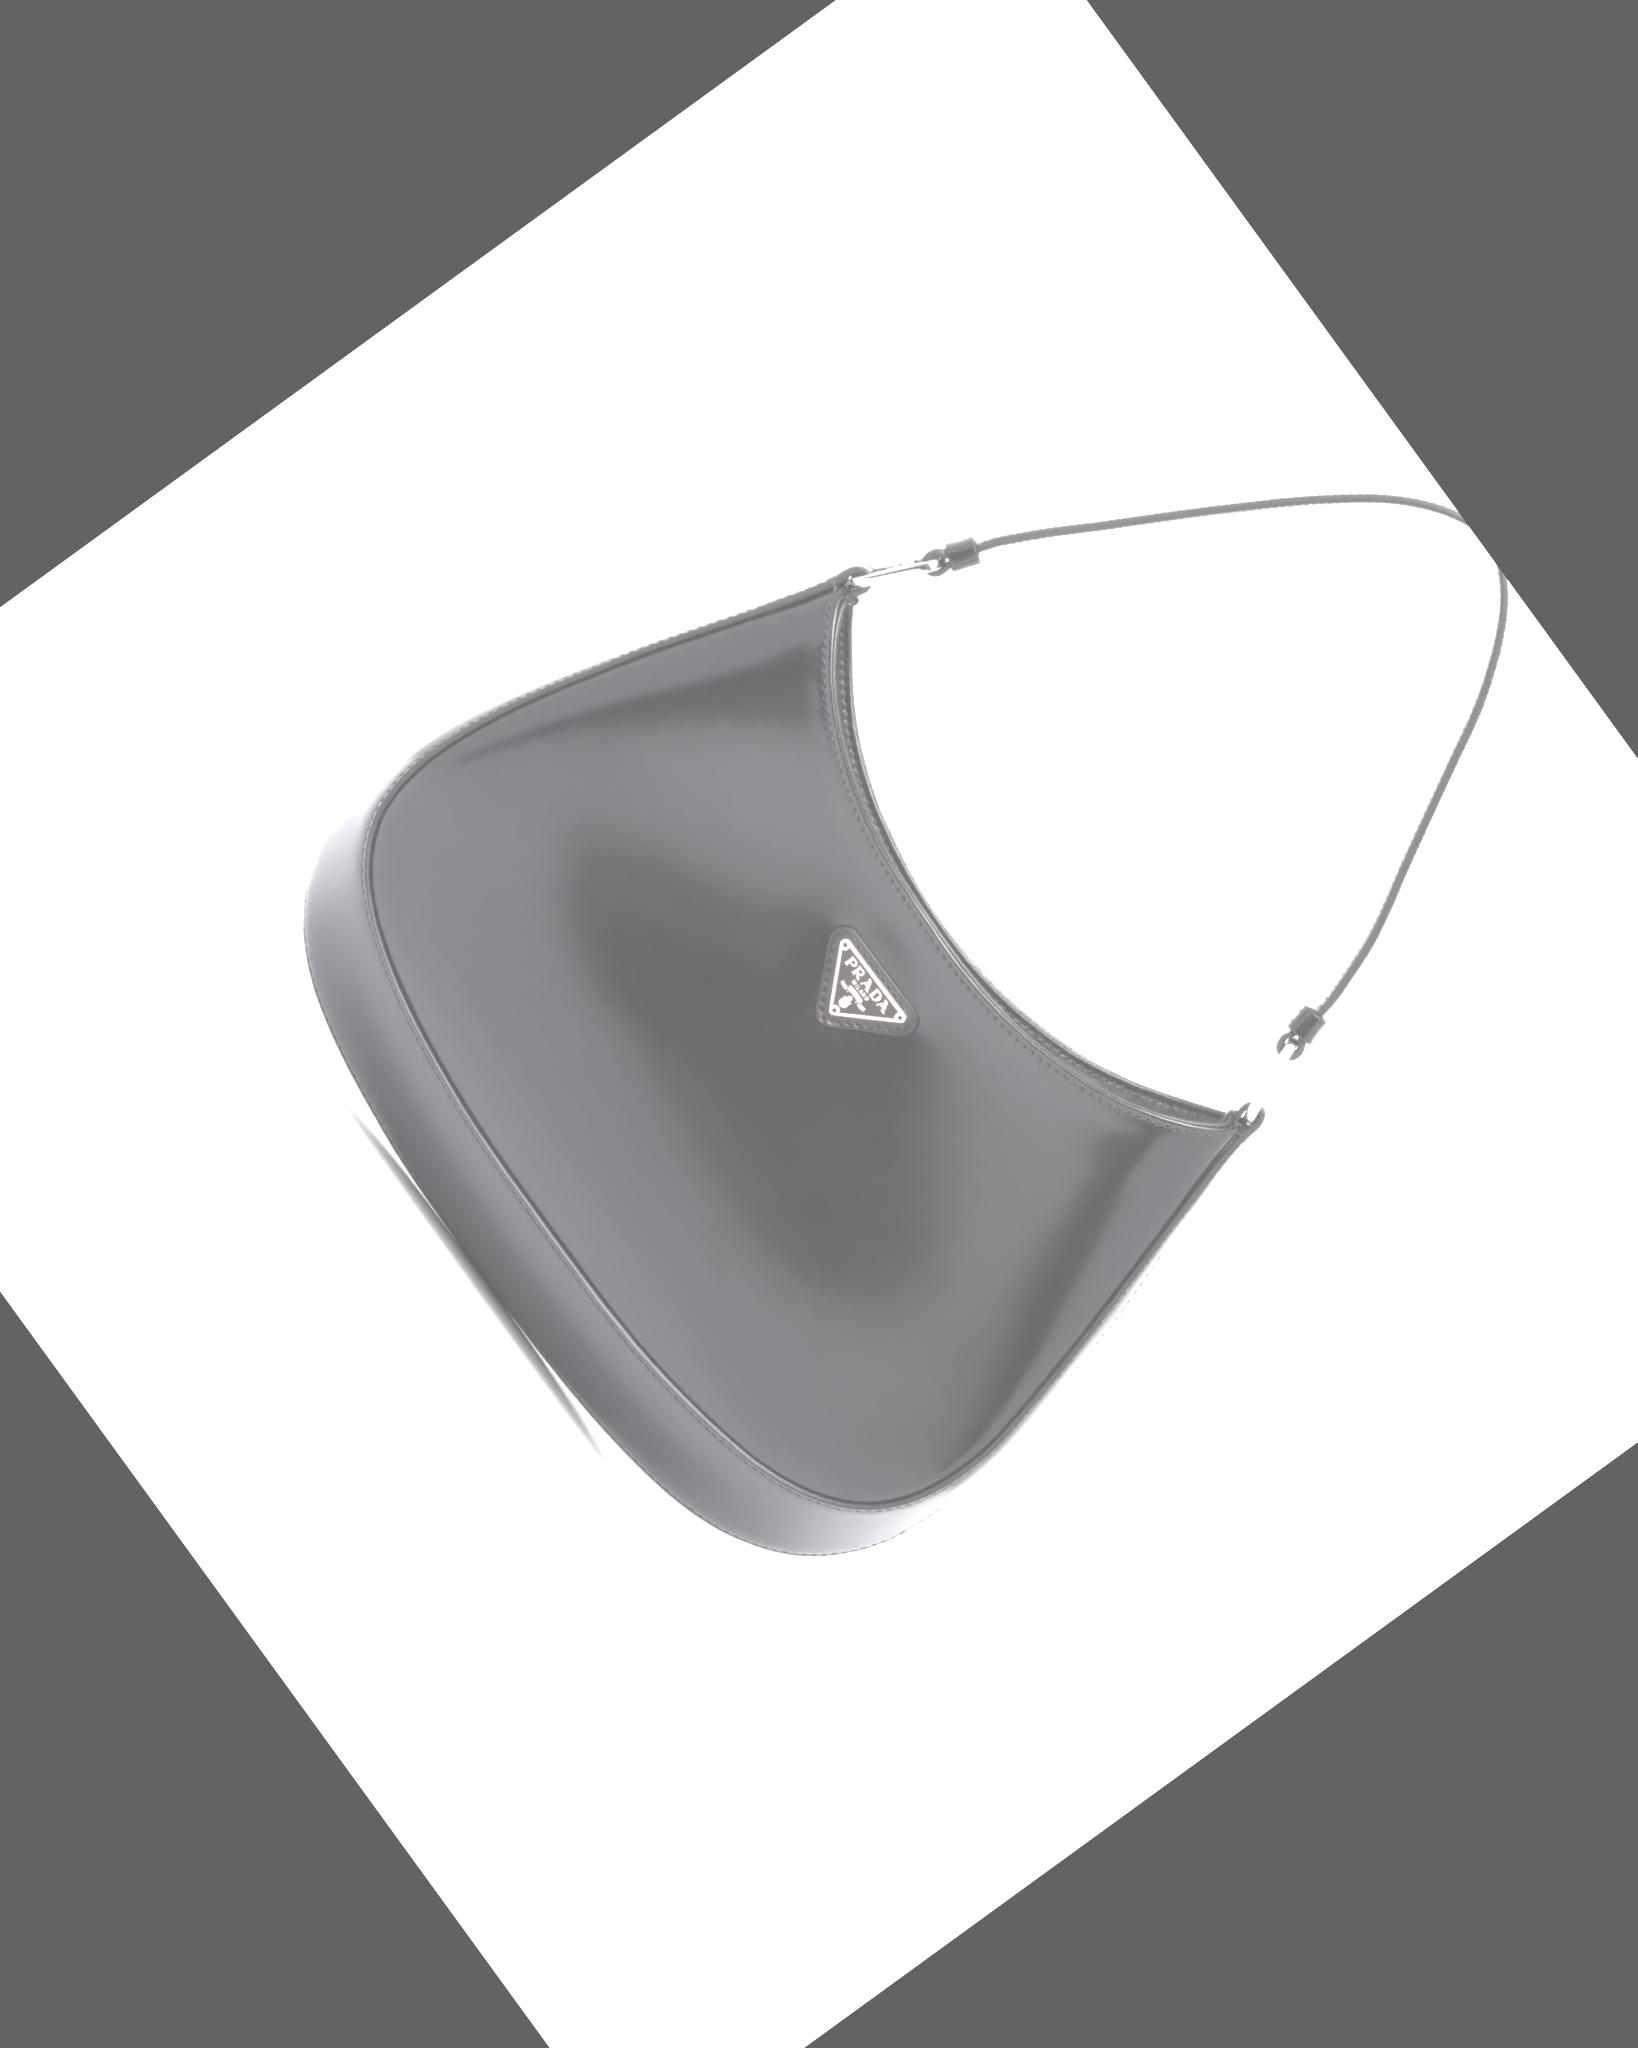PRADA: (799, 936, 908, 1055)
